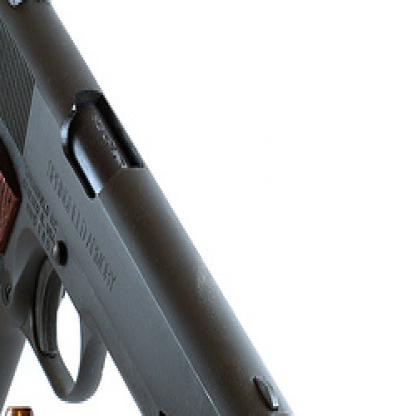gun: (0, 0, 312, 414)
